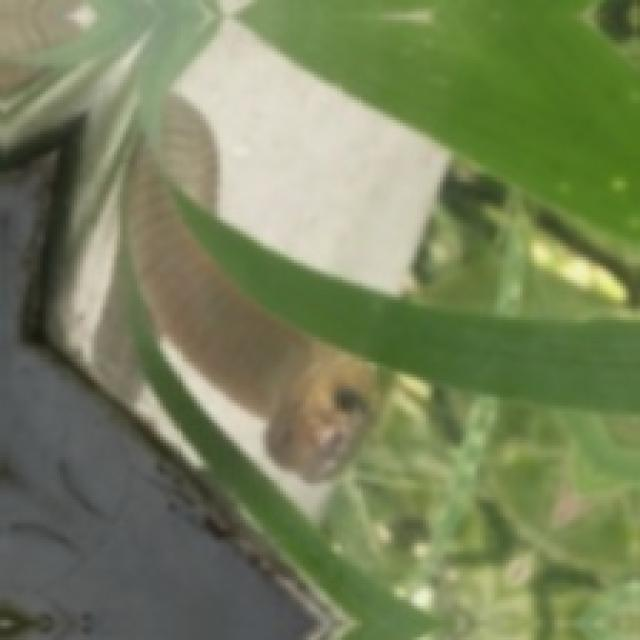philippine cobra: (126, 149, 377, 480)
